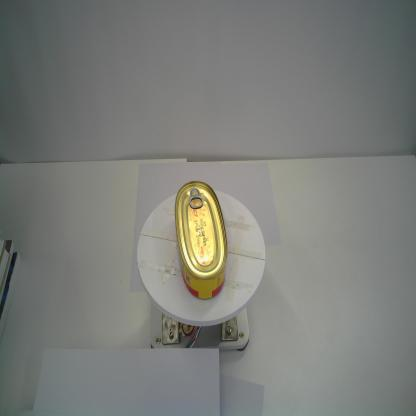Canned Food: (174, 180, 228, 300)
